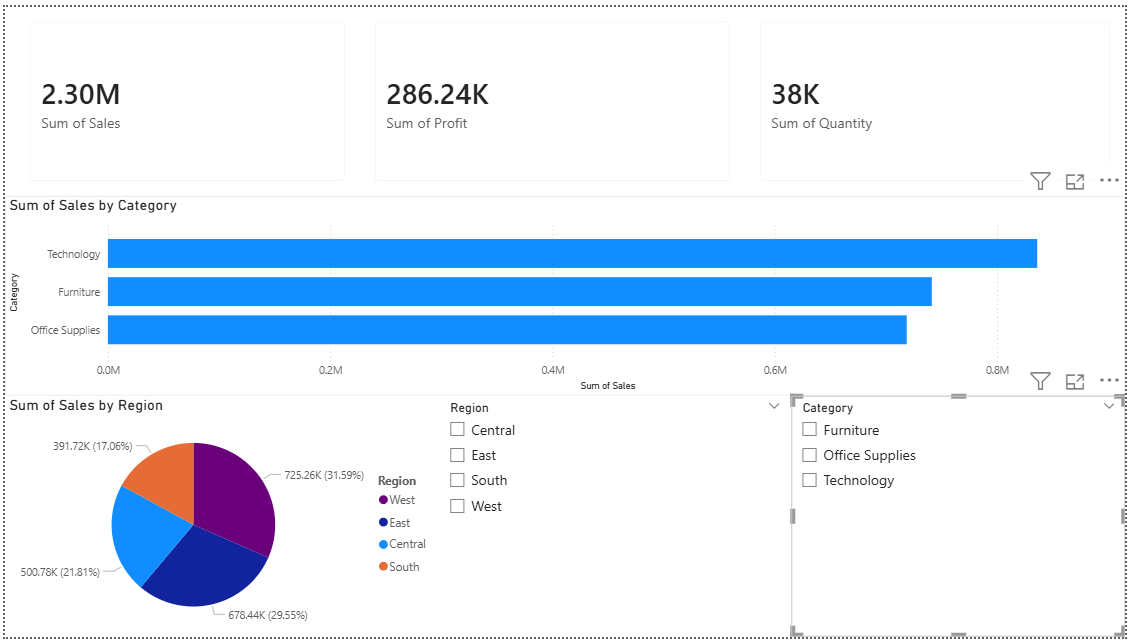

What the dashboard file says about the page in this screenshot:
{"tool":"powerbi","page":{"name":"Page 1","canvas":[1280,720],"ordinal":0},"visuals":[{"type":"cardVisual","fields":{"Data":["Sum(archive (6).Sales)"]},"box":[12,0,394,216],"z":0},{"type":"cardVisual","fields":{"Data":["Sum(archive (6).Profit)"]},"box":[406,0,440,216],"z":1},{"type":"cardVisual","fields":{"Data":["Sum(archive (6).Quantity)"]},"box":[846,0,434,216],"z":2},{"type":"clusteredBarChart","fields":{"Category":["archive (6).Category"],"Y":["Sum(archive (6).Sales)"]},"box":[0,216,1280,228],"z":3},{"type":"pieChart","fields":{"Category":["archive (6).Region"],"Y":["Sum(archive (6).Sales)"]},"box":[0,444,496,276],"z":4},{"type":"slicer","fields":{"Values":["archive (6).Category"]},"box":[898,444,382,276],"z":5},{"type":"slicer","fields":{"Values":["archive (6).Region"]},"box":[496,444,402,276],"z":6}]}

Visuals, with their boxes in screenshot pixels (x1, y1, x2, y2), scaled from the page's 1280x720 canvas onto the 1131x642 screenshot:
cardVisual - Sum(archive (6).Sales): bbox=(11, 0, 359, 193)
cardVisual - Sum(archive (6).Profit): bbox=(359, 0, 748, 193)
cardVisual - Sum(archive (6).Quantity): bbox=(748, 0, 1130, 193)
clusteredBarChart - archive (6).Category x Sum(archive (6).Sales): bbox=(0, 193, 1130, 396)
pieChart - archive (6).Region x Sum(archive (6).Sales): bbox=(0, 396, 438, 641)
slicer - archive (6).Category: bbox=(793, 396, 1130, 641)
slicer - archive (6).Region: bbox=(438, 396, 793, 641)
